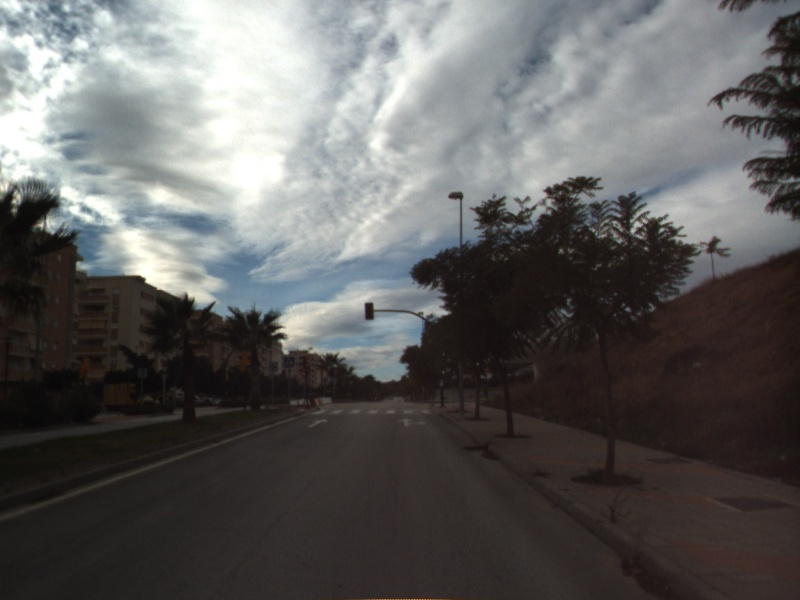STRAIGHT: (306, 417, 331, 429)
STRAIGHT_RIGHT: (396, 415, 428, 428)
